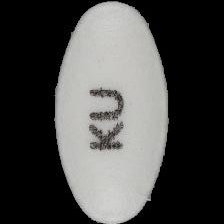62175-180: (0, 0, 224, 224)
